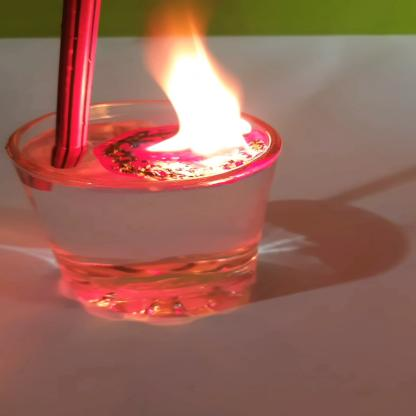Fire: (134, 12, 260, 169)
